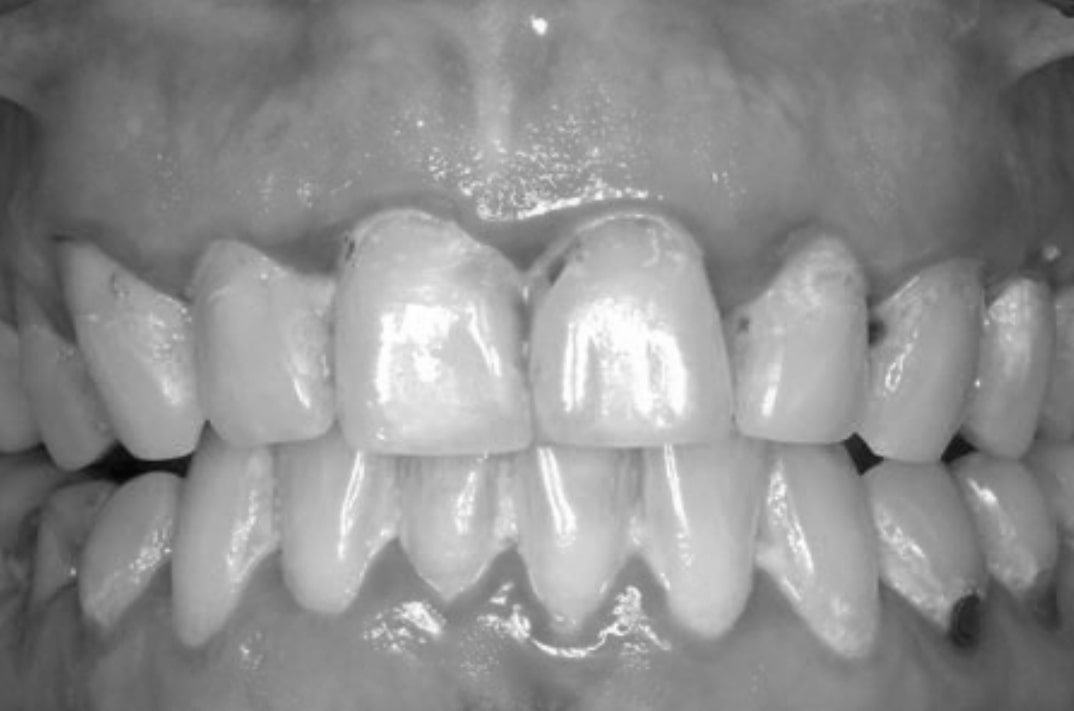karies: (1004, 234, 1066, 301), (53, 495, 112, 560), (4, 506, 51, 578), (945, 589, 988, 650), (1019, 572, 1063, 627), (857, 309, 895, 349), (725, 305, 757, 343)
